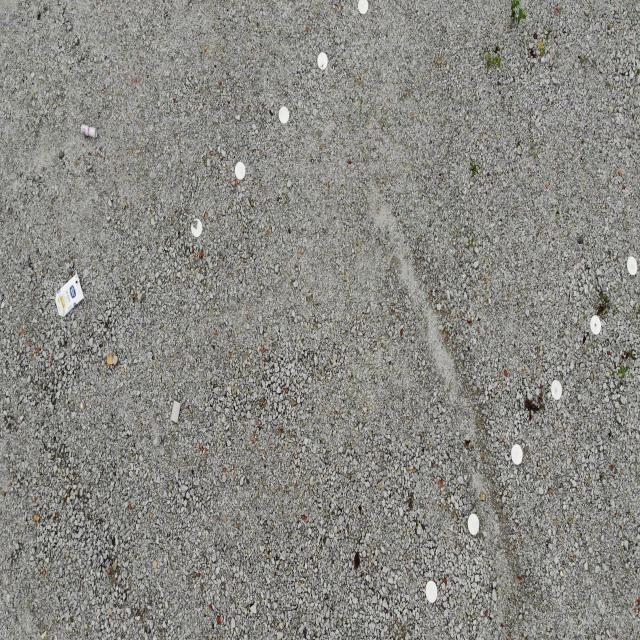rubbish: (55, 270, 84, 318), (171, 400, 182, 425), (80, 123, 97, 139)
